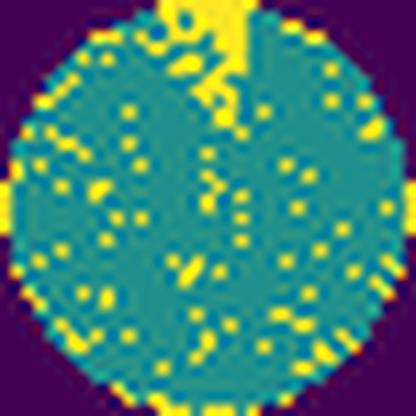Edge-Loc: (135, 0, 257, 142)
